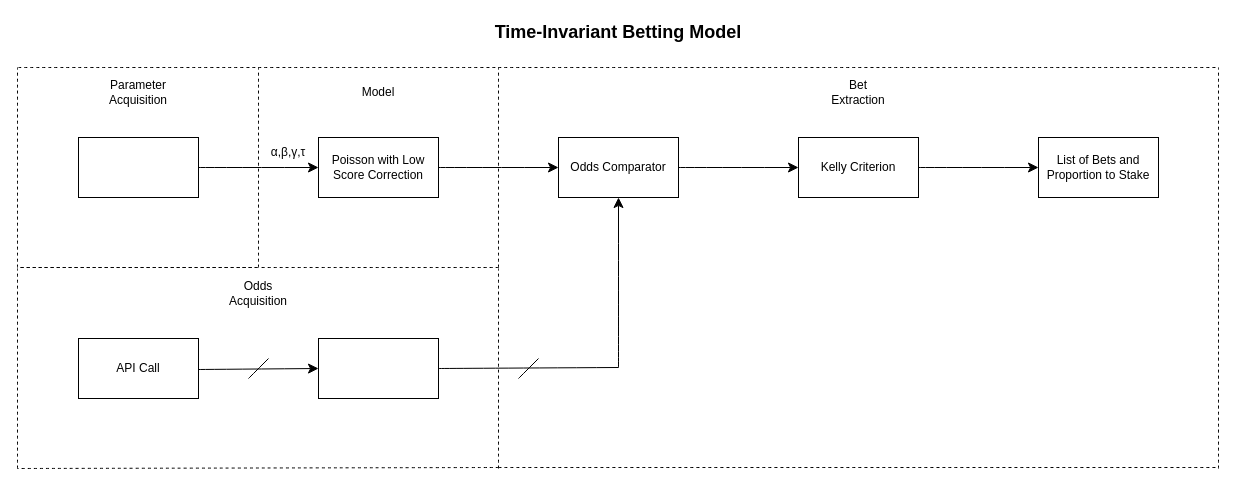
This 1237x487 diagram has some shape labels left out. Each missing label, with the centre of its shape:
"MLEs, ML training, historical data etc?" belongs at point (138, 167).
"Pruning/Odds to Decimal Conversion" belongs at point (378, 368).
